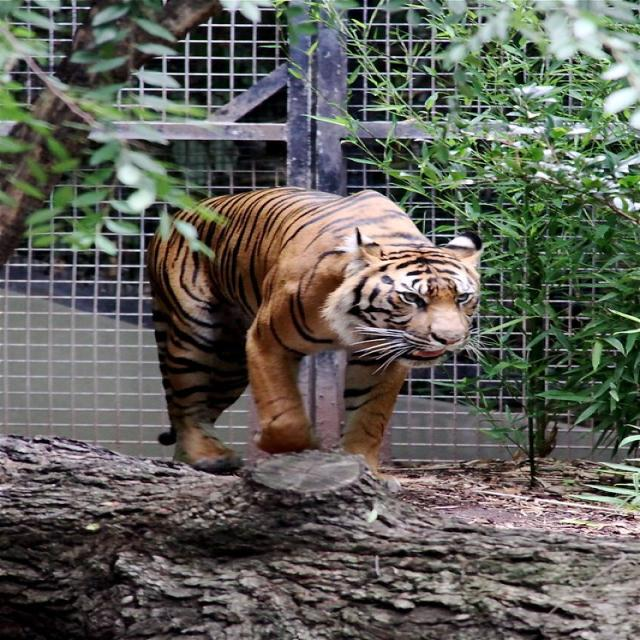Tiger: (143, 181, 492, 478)
